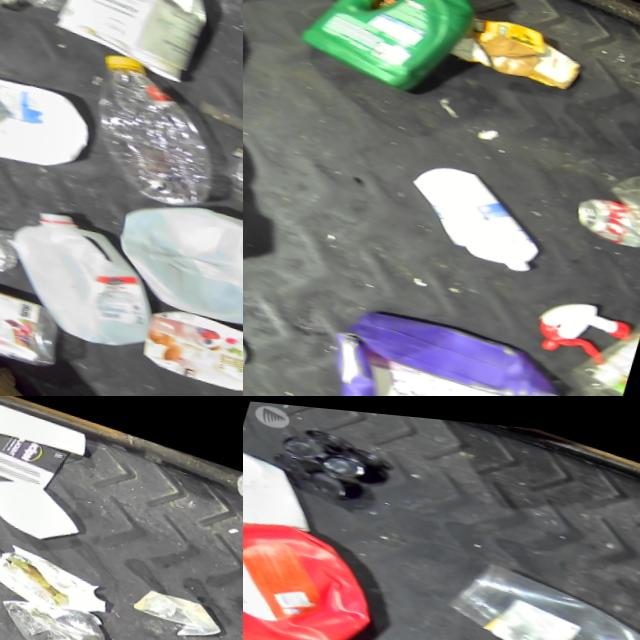can: (0, 574, 118, 640), (569, 175, 640, 243)
milk_jug: (0, 190, 184, 353), (105, 172, 243, 345)
non_white_jug: (312, 280, 581, 396), (243, 498, 389, 640), (292, 0, 485, 98)
plastic_bottle: (64, 37, 243, 211), (564, 286, 640, 396), (226, 456, 243, 517)
